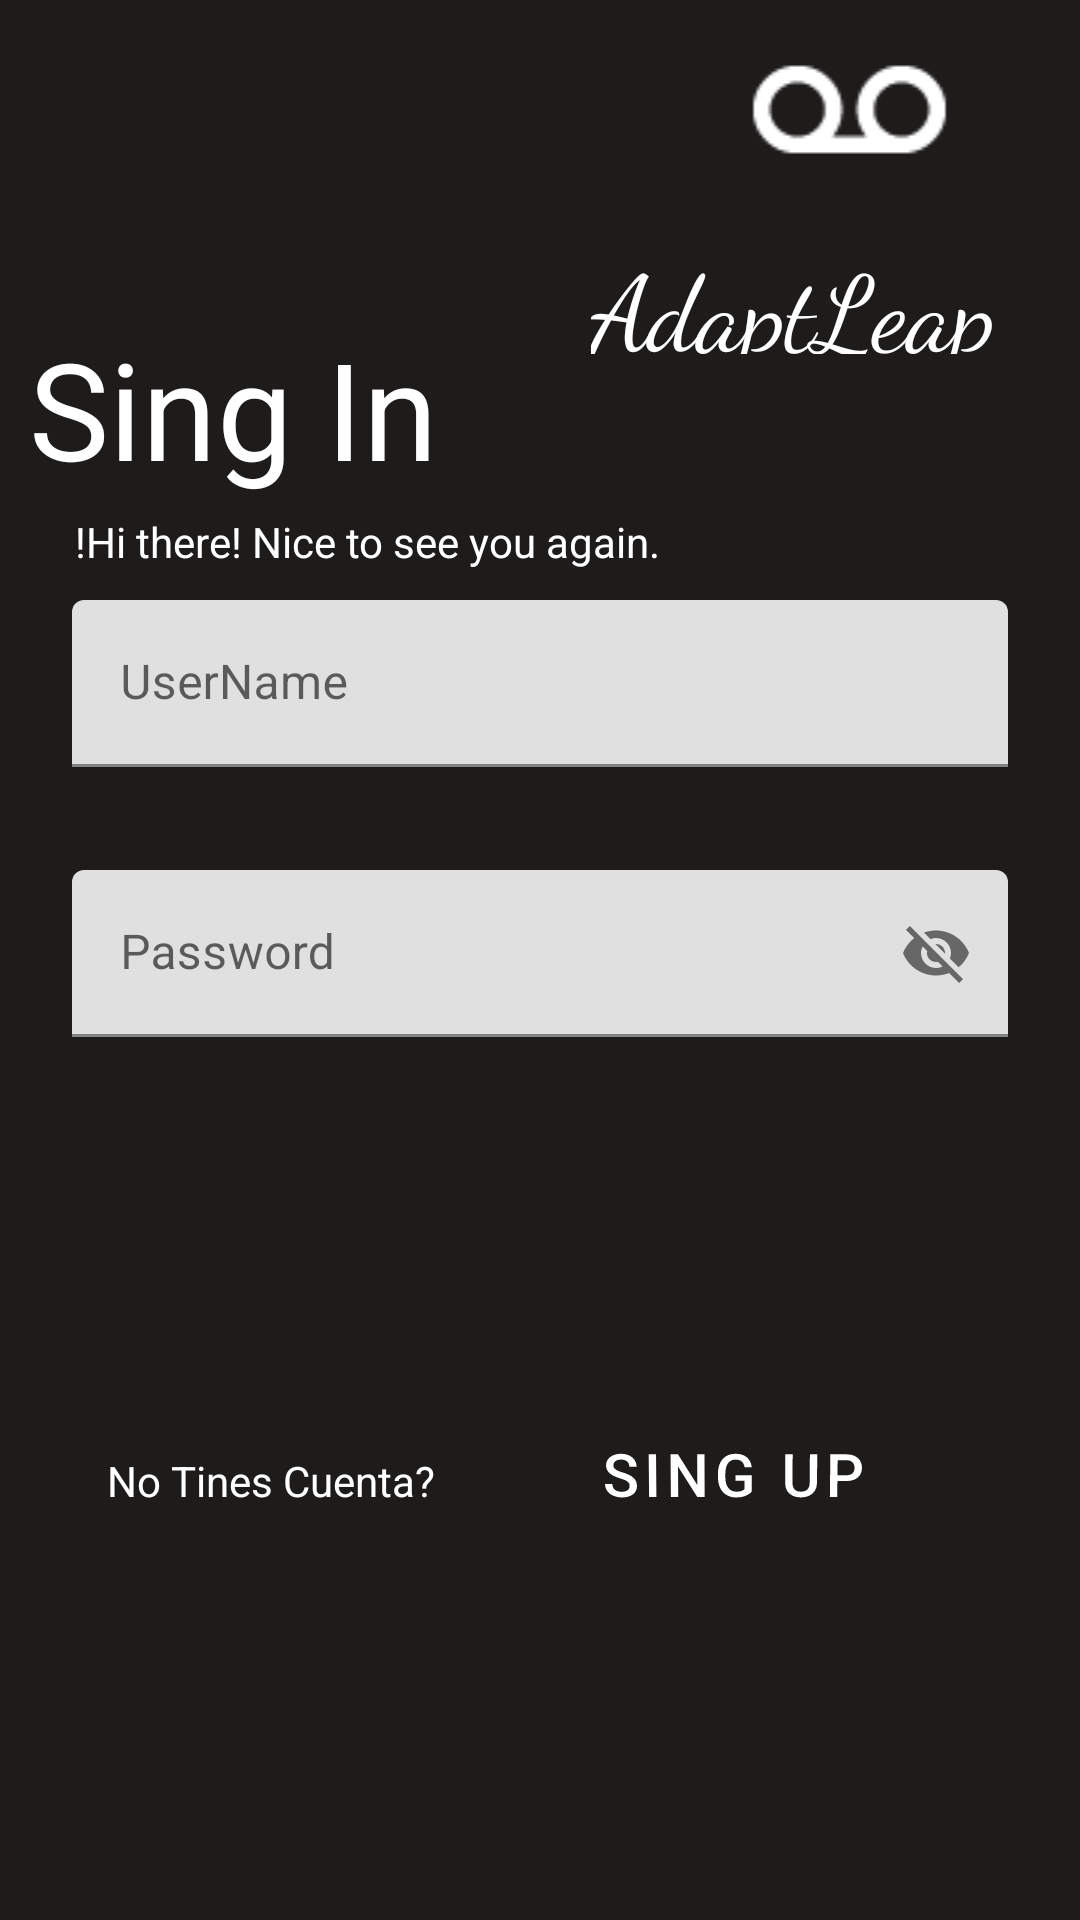

Icon bounding boxes for this 1080px×1920px phone screenshot, format (x1, y1, x2, y2):
voicemail: (752, 65, 947, 154)
